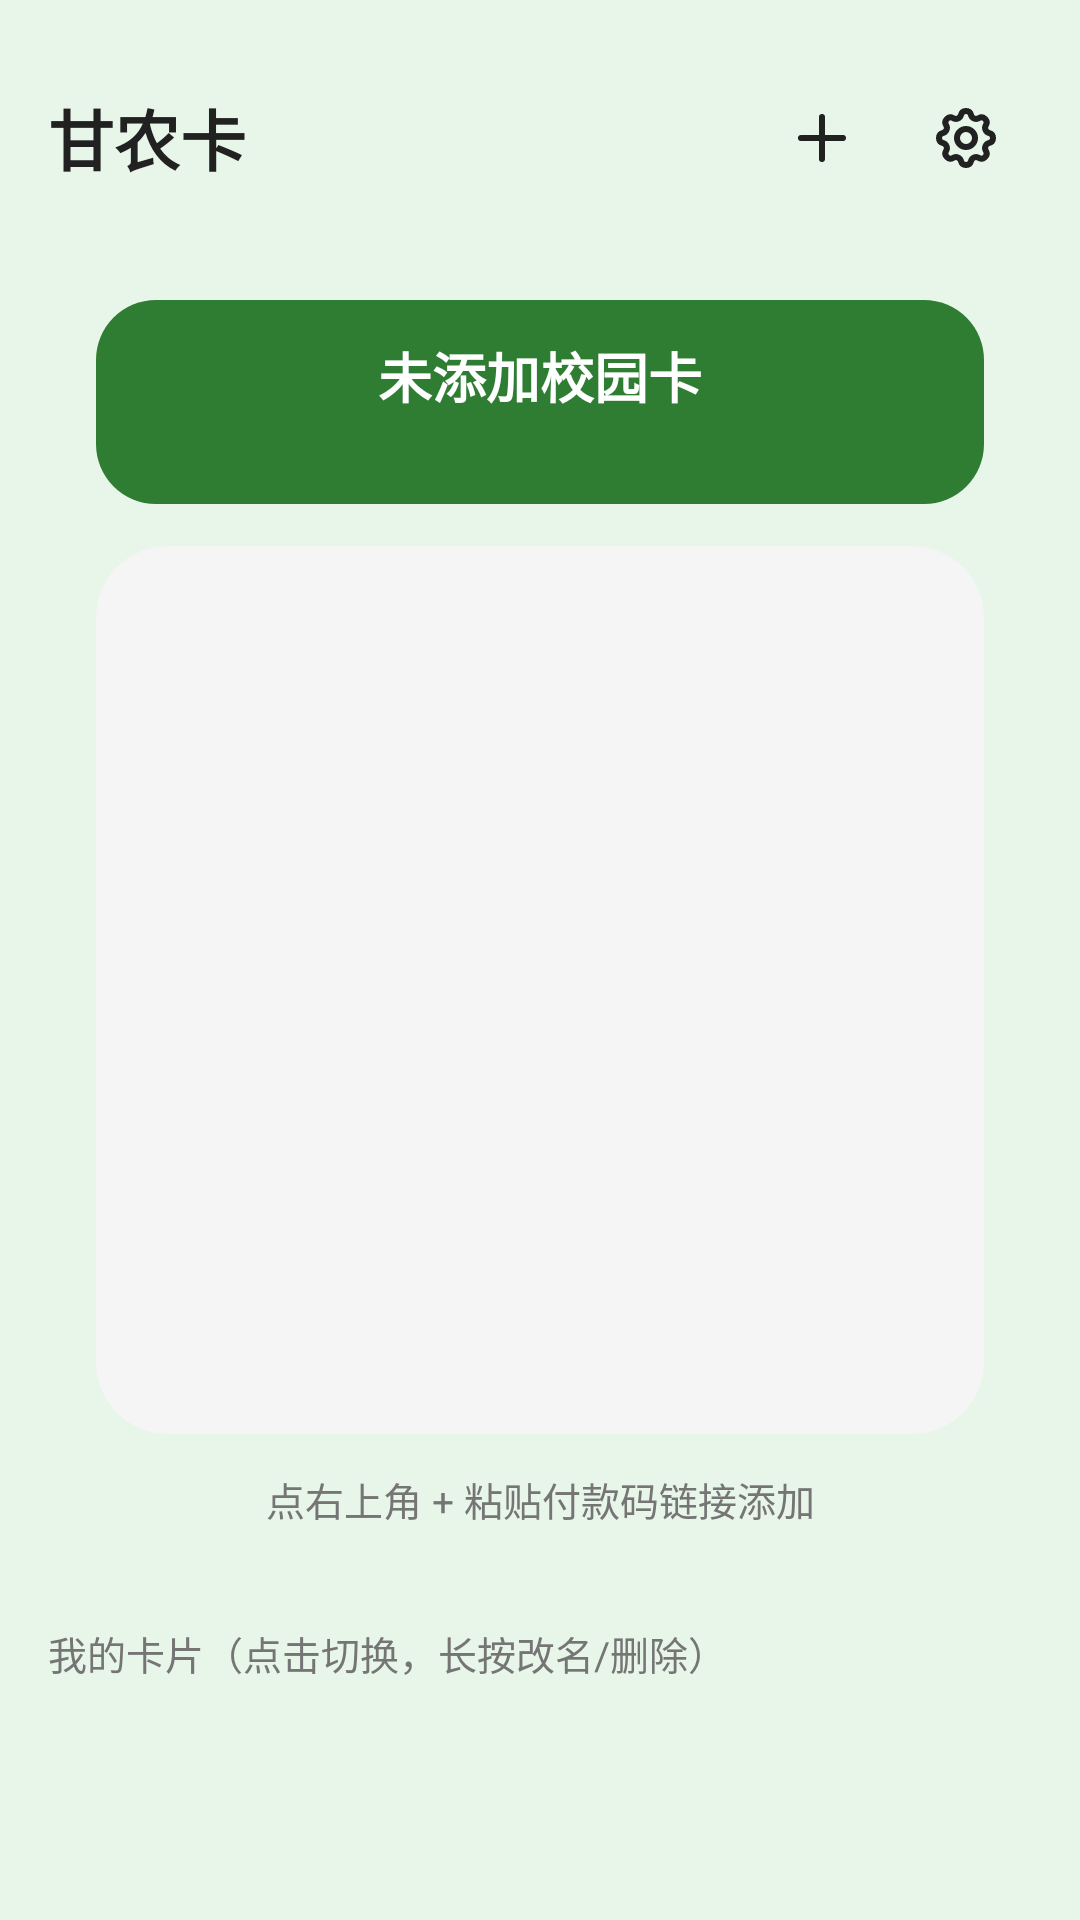

Screen size 1080×1920. Icon name, then its box in pixels as BBox(x1, y1, x2, y2):
设置: BBox(936, 108, 996, 168)
